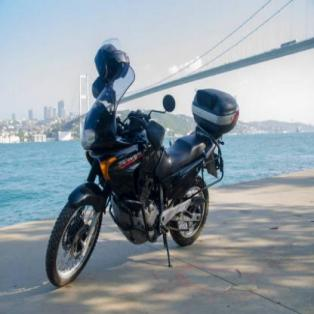Motocicleta: (39, 36, 242, 291)
